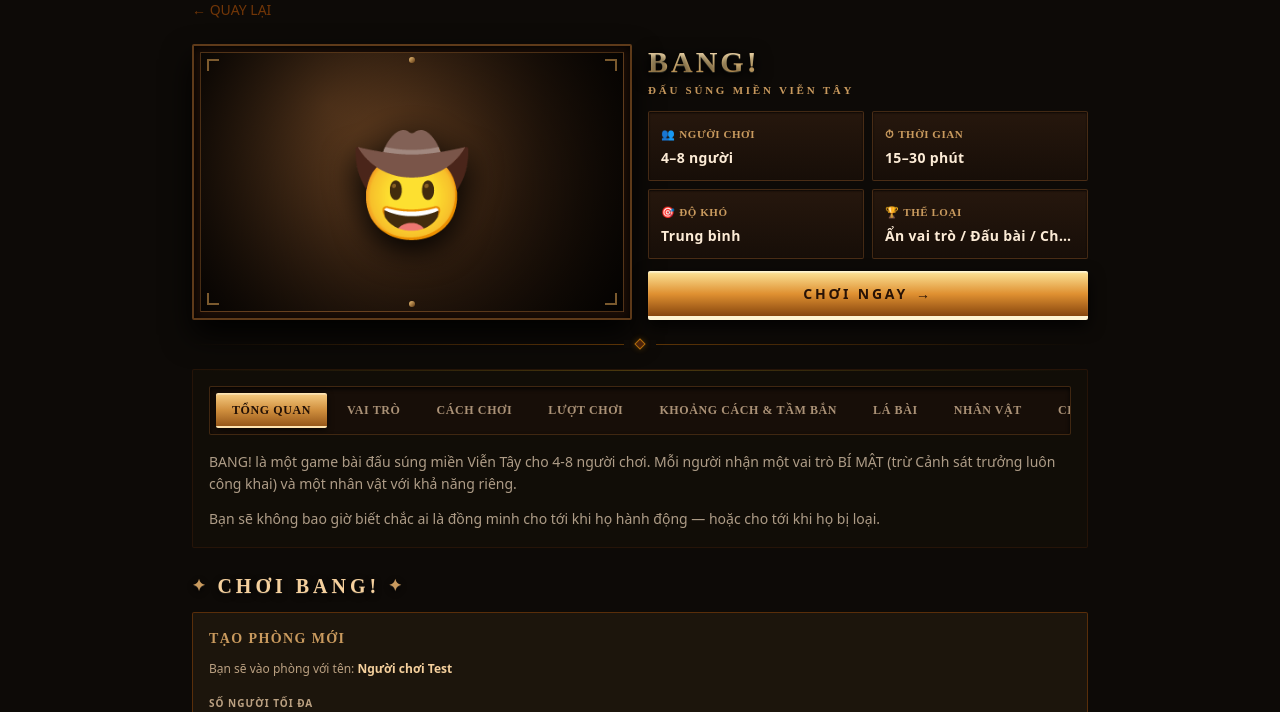
Test: GameDetails — chuyển tab hướng dẫn (GameInstructions, chưa từng có test riêng) › tab LƯỢT CHƠI render được nội dung tương ứng không crash
Click the tab "LƯỢT CHƠI" at point(586, 410), box top-left (532, 392), bottom-right (639, 428)
(page scrolled)
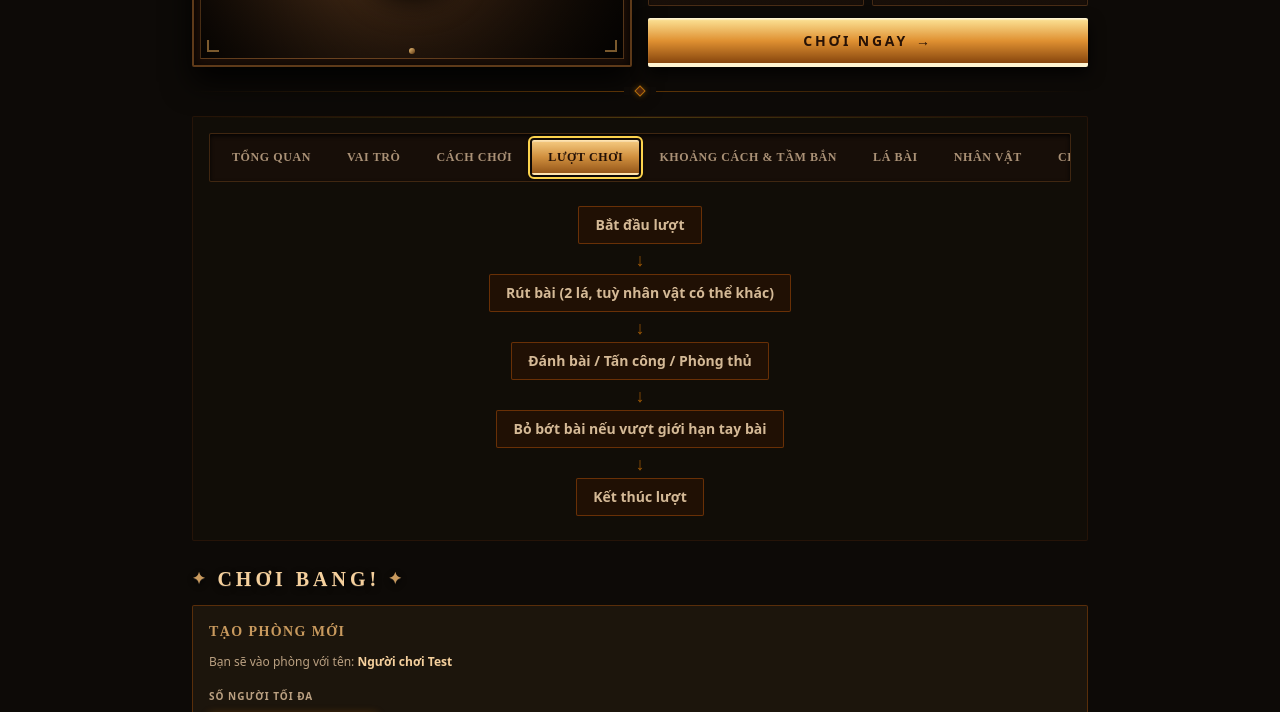
Result: the panel shows "Bắt đầu lượt" at top-left (596, 214), bottom-right (684, 234)
